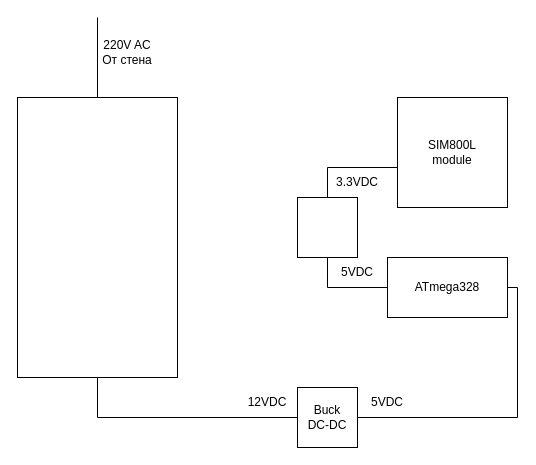
Some shapes in this 536 by 465 pixel diagram are drawn without their labels. Each missing label, with the box of its shape:
220VAC 12VDC: (16, 96, 178, 378)
Buck DC-DC: (296, 196, 358, 258)
